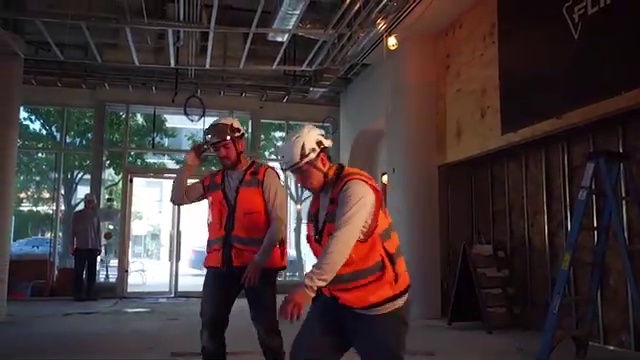helmet: (271, 117, 328, 171), (201, 112, 246, 144)
jacket: (311, 166, 410, 311), (200, 167, 298, 279)
